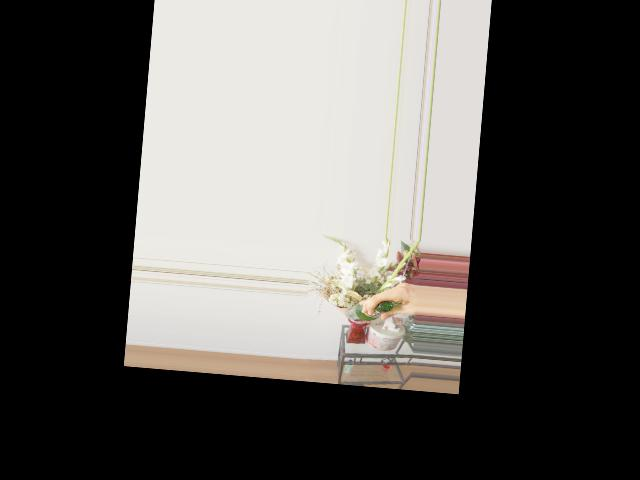beer: (346, 298, 393, 324)
